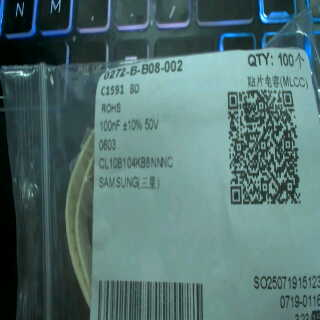100nF: (93, 116, 124, 137)
